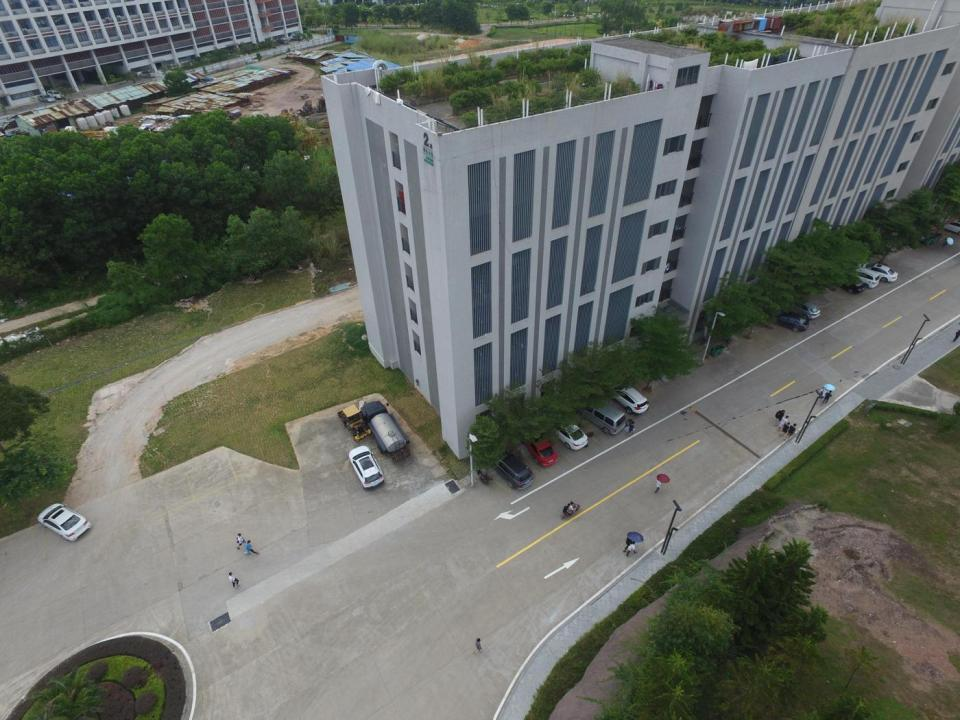car: (37, 503, 92, 541), (488, 446, 533, 490), (348, 445, 385, 488), (604, 382, 648, 415), (520, 428, 558, 466), (549, 418, 588, 450), (770, 308, 809, 332), (852, 262, 898, 282), (785, 297, 820, 320), (833, 274, 868, 294), (940, 219, 960, 234), (46, 89, 64, 100), (36, 94, 56, 103), (138, 70, 155, 78), (275, 38, 289, 44), (290, 34, 302, 41)
truck: (359, 400, 411, 463)
van: (574, 398, 626, 435), (847, 267, 880, 288)
